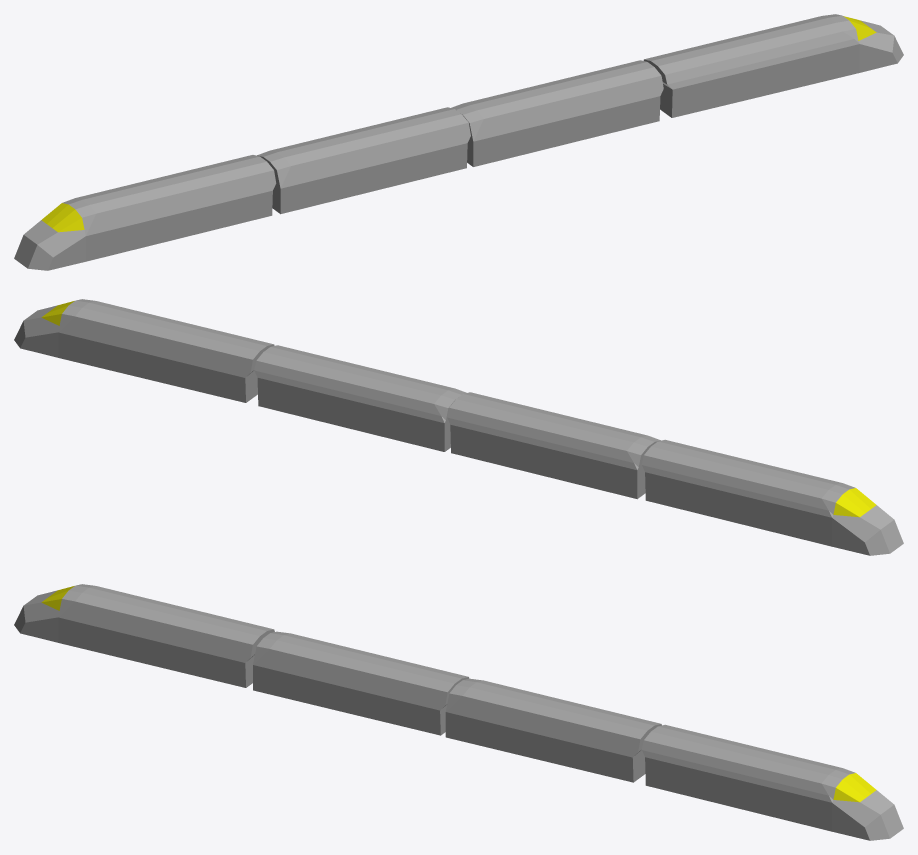
File: train.fbx
3 renders of one model, top to bottom at view 1: azimuth 30°, elevation 25°; view 2: azimuth 150°, elevation 25°; view 3: azimuth 330°, elevation 25°, orthographic.
Parts seen in each view (by area): view 1: train, train3, train1, train2; view 2: train, train3, train1, train2; view 3: train3, train, train2, train1.
Part boxes in pixels (left/top/right/bottom): train: left=14, top=155, right=276, bottom=270; train3: left=643, top=14, right=903, bottom=117; train1: left=257, top=107, right=470, bottom=214; train2: left=451, top=60, right=663, bottom=166; train: left=641, top=439, right=903, bottom=555; train3: left=14, top=299, right=274, bottom=402; train1: left=447, top=392, right=660, bottom=499; train2: left=254, top=345, right=466, bottom=451; train3: left=641, top=724, right=903, bottom=840; train: left=14, top=584, right=274, bottom=687; train2: left=445, top=678, right=661, bottom=782; train1: left=253, top=631, right=469, bottom=735.
Bounding box in the file's own units: 5492 × 276 × 300.
